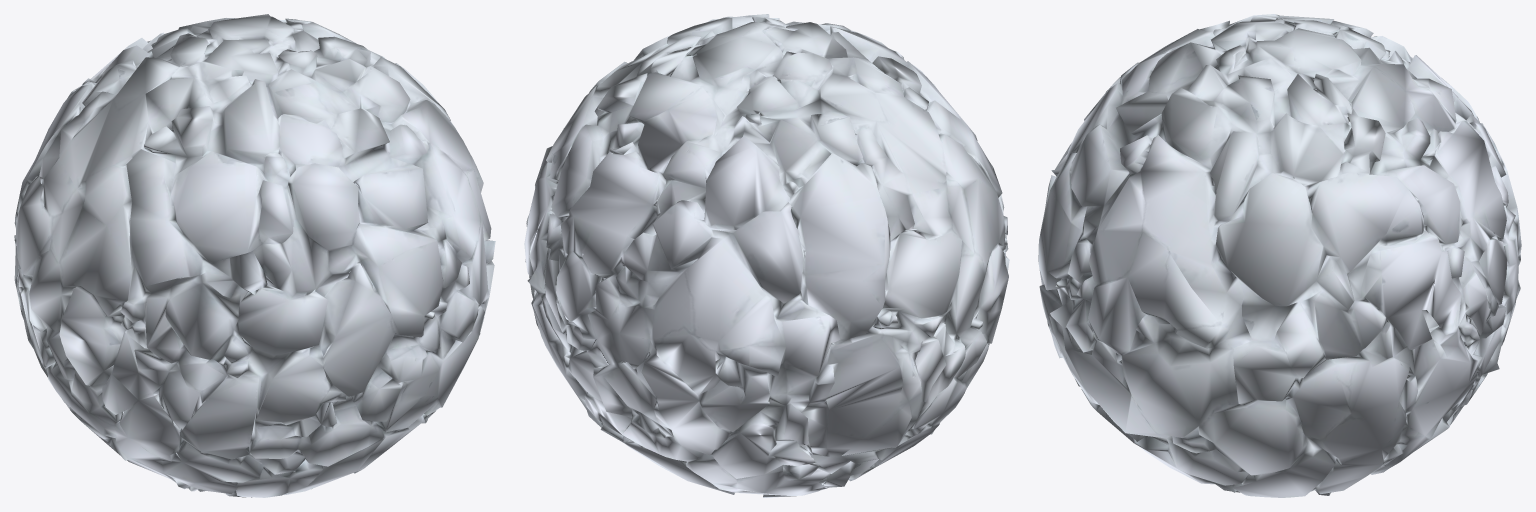
File: toit-boule.glb
3 views of the same model, side by side, from view 1: azimuth 30°, elevation 25°; view 2: azimuth 150°, elevation 25°; view 3: azimuth 270°, elevation 25° (orthographic).
Bounding box in the file's own units: 1.89 × 1.87 × 1.9.
Materials: 1 (1 with a texture image).
